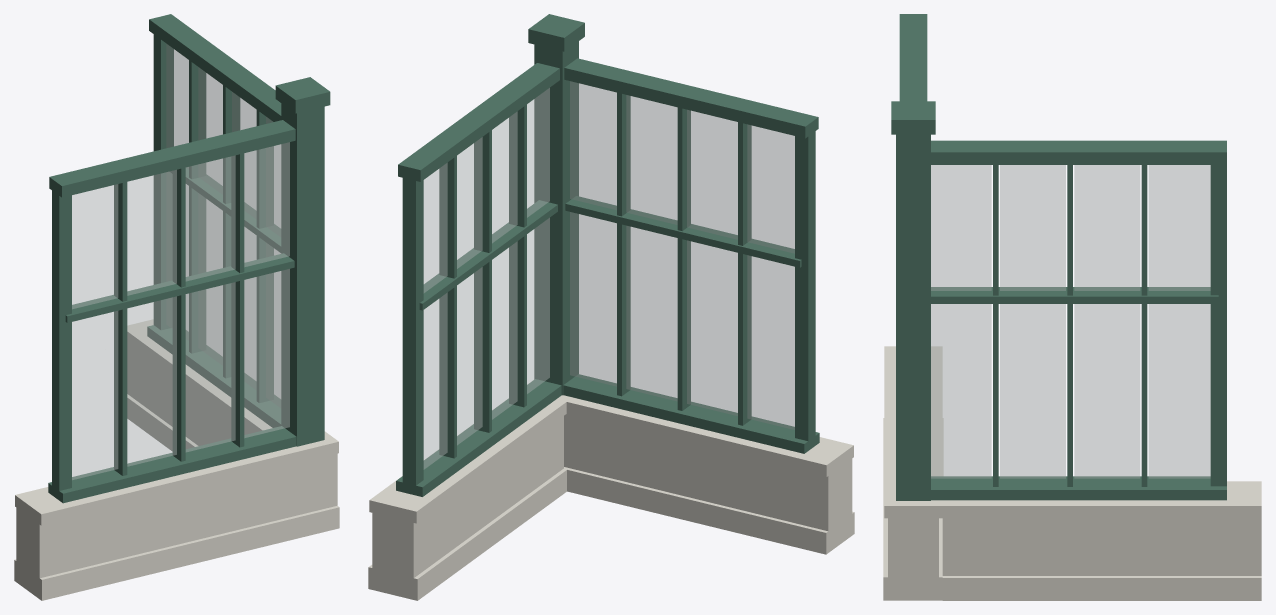
The model's file is botanical-glasshouse-and-palm-house-botanical-glasshou-0fe6e309__38531.glb.
3 views of the same model, side by side, from view 1: azimuth 30°, elevation 25°; view 2: azimuth 150°, elevation 25°; view 3: azimuth 270°, elevation 25° (orthographic). The views are drawn at different scales.
Visible parts, largest first — view 1: botanical-glasshouse-and-palm-house-glasshouse-corner-bay; view 2: botanical-glasshouse-and-palm-house-glasshouse-corner-bay; view 3: botanical-glasshouse-and-palm-house-glasshouse-corner-bay.
Boxes of the visible parts, x1,y1,x2,y2 form: botanical-glasshouse-and-palm-house-glasshouse-corner-bay: (14, 14, 339, 600); botanical-glasshouse-and-palm-house-glasshouse-corner-bay: (368, 14, 854, 600); botanical-glasshouse-and-palm-house-glasshouse-corner-bay: (883, 14, 1261, 600).
Bounding box in the file's own units: 3.26 × 4.54 × 3.26.
